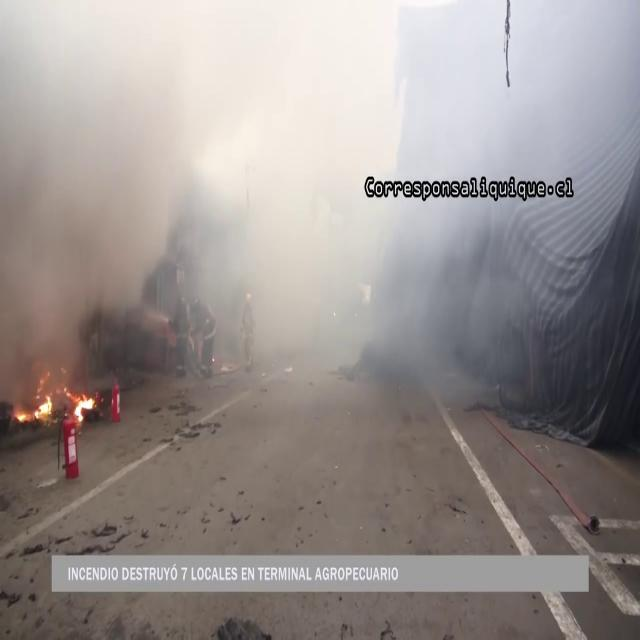Fire: (12, 373, 98, 426)
Smoke: (113, 0, 590, 426), (0, 0, 133, 374)
